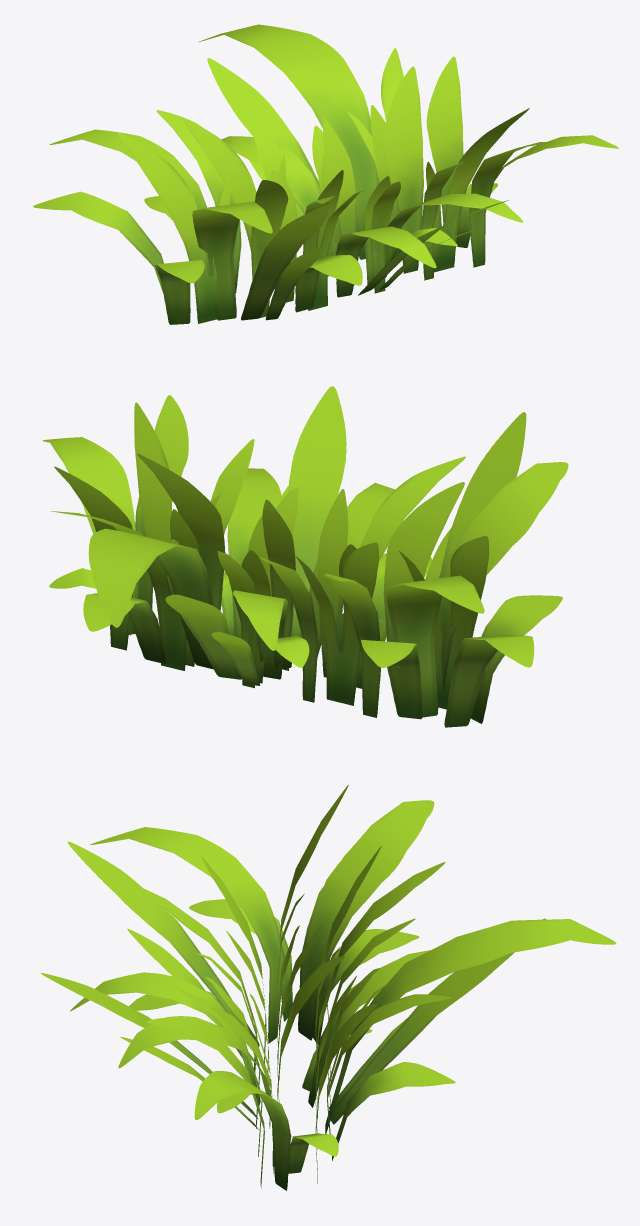
File: Grass_2.fbx
The picture shows the model from 3 angles, top to bottom: view 1: azimuth 30°, elevation 25°; view 2: azimuth 150°, elevation 25°; view 3: azimuth 270°, elevation 25°; orthographic projection. The views are drawn at different scales.
Visible parts, largest first — view 1: Plane.108; view 2: Plane.108; view 3: Plane.108.
Boxes of the visible parts, x1,y1,x2,y2 form: Plane.108: [33, 24, 618, 324]; Plane.108: [42, 386, 568, 727]; Plane.108: [41, 784, 616, 1190].
Bounding box in the file's own units: 120 × 41.54 × 101.
Materials: 1 (1 with a texture image).
